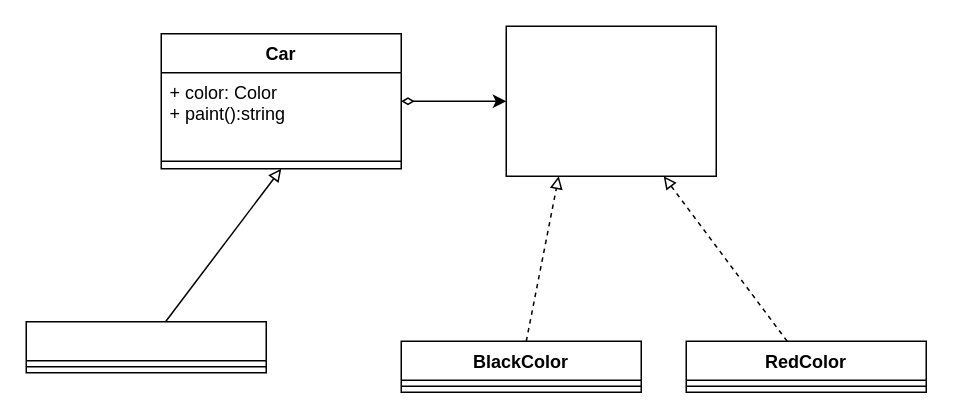
This 953x419 diagram has some shape labels left out. The centre of each missing label's shape, as x and y in pixels:
ConcreteCar: point 145,346
«interface» Color color: string getColor():string: point 610,100
